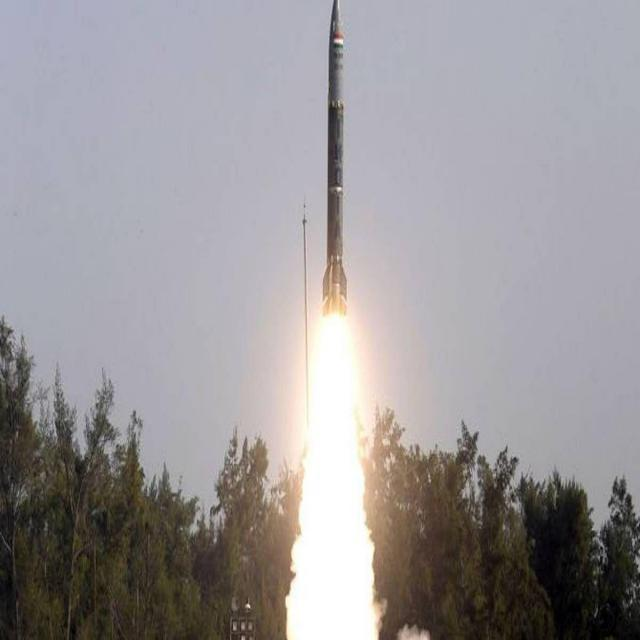rocket: (318, 2, 355, 422)
